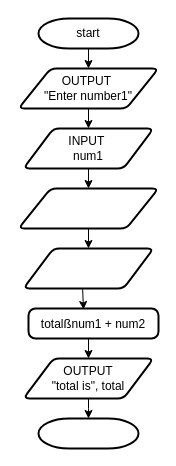
Image size: 176x466. Some labels were removed from this diagram. Each missing label, with the box of its shape:
INPUT num2: (22, 247, 154, 289)
OUTPUT "Enter number2": (17, 187, 159, 229)
stop: (37, 417, 139, 449)
